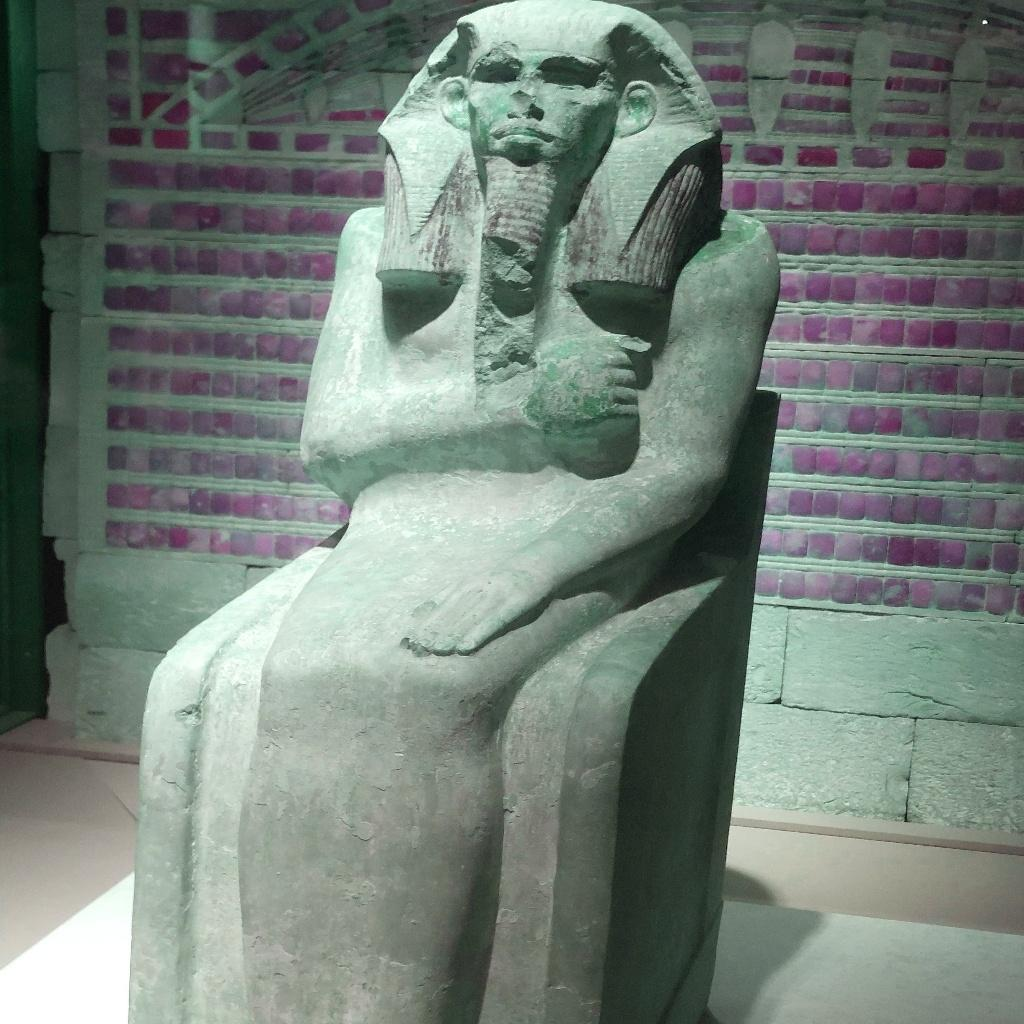Seated Statue of Djoser: (130, 0, 784, 1024)
